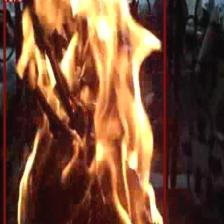fire: (3, 0, 165, 224)
